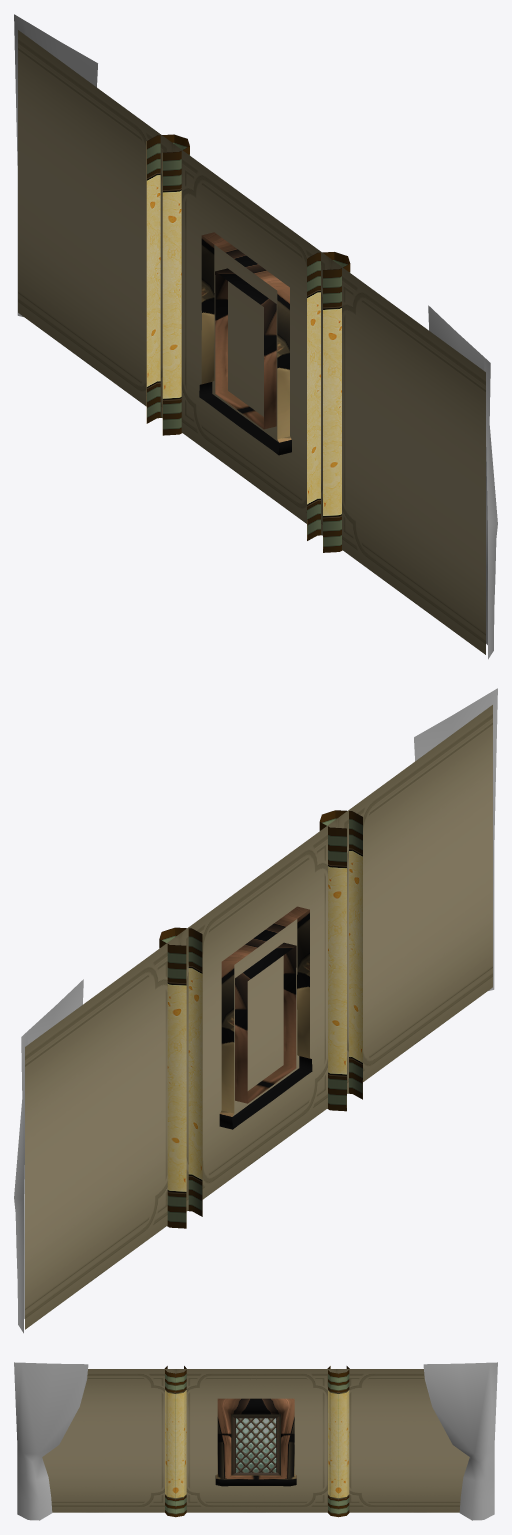
The model's file is IceMaze_Wall02.fbx.
The picture shows the model from 3 angles, top to bottom: view 1: azimuth 30°, elevation 25°; view 2: azimuth 150°, elevation 25°; view 3: azimuth 270°, elevation 25°; orthographic projection. The views are drawn at different scales.
Parts seen in each view (by area): view 1: WallMesh, Window, LightR, LightL, DrapeL, DrapeR; view 2: WallMesh, Window, LightR, LightL, DrapeR, DrapeL; view 3: WallMesh, DrapeR, DrapeL, Window, LightR, LightL.
Boxes of the visible parts, <box> form: WallMesh: <box>18,30,485,654</box>; Window: <box>199,232,291,455</box>; LightR: <box>146,134,189,435</box>; LightL: <box>307,252,350,552</box>; DrapeL: <box>428,305,497,659</box>; DrapeR: <box>14,14,97,316</box>; WallMesh: <box>25,705,492,1329</box>; Window: <box>219,906,312,1129</box>; LightR: <box>159,927,202,1228</box>; LightL: <box>319,810,362,1111</box>; DrapeR: <box>14,979,83,1333</box>; DrapeL: <box>414,688,497,990</box>; WallMesh: <box>42,1369,469,1512</box>; DrapeR: <box>423,1362,497,1520</box>; DrapeL: <box>14,1362,88,1520</box>; Window: <box>215,1398,296,1486</box>; LightR: <box>327,1366,349,1517</box>; LightL: <box>164,1366,186,1517</box>.
Bounding box in the file's own units: 0.7842 × 6.45 × 18.33.
